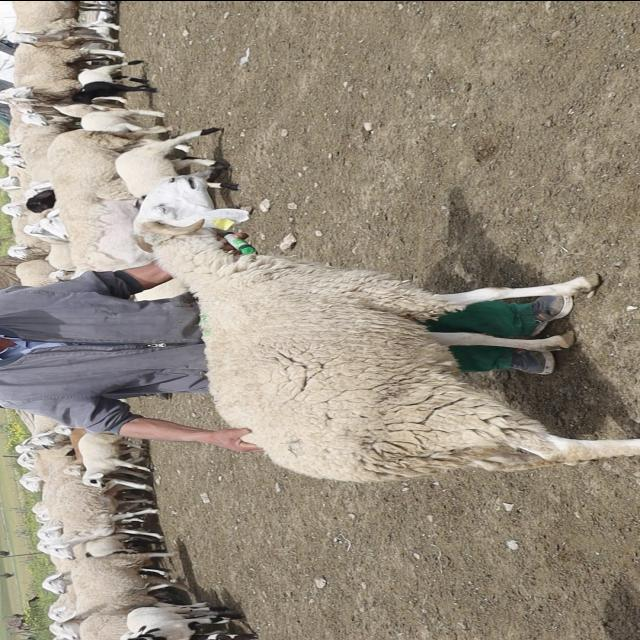Score_3: (134, 170, 639, 482)
